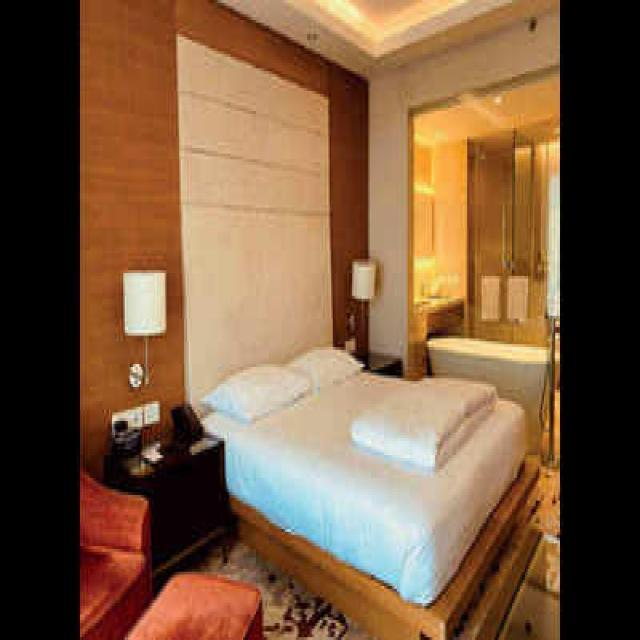bed: (195, 344, 541, 637)
sofa: (77, 452, 155, 640)
